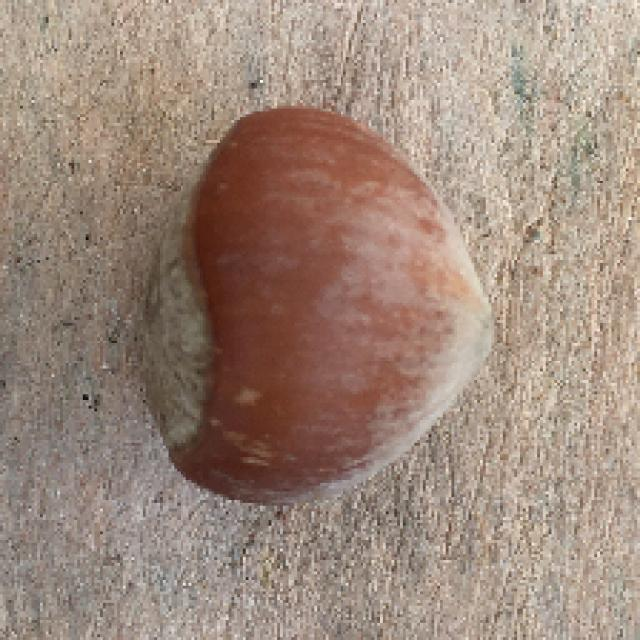qualityHazelnut: (146, 106, 505, 520)
